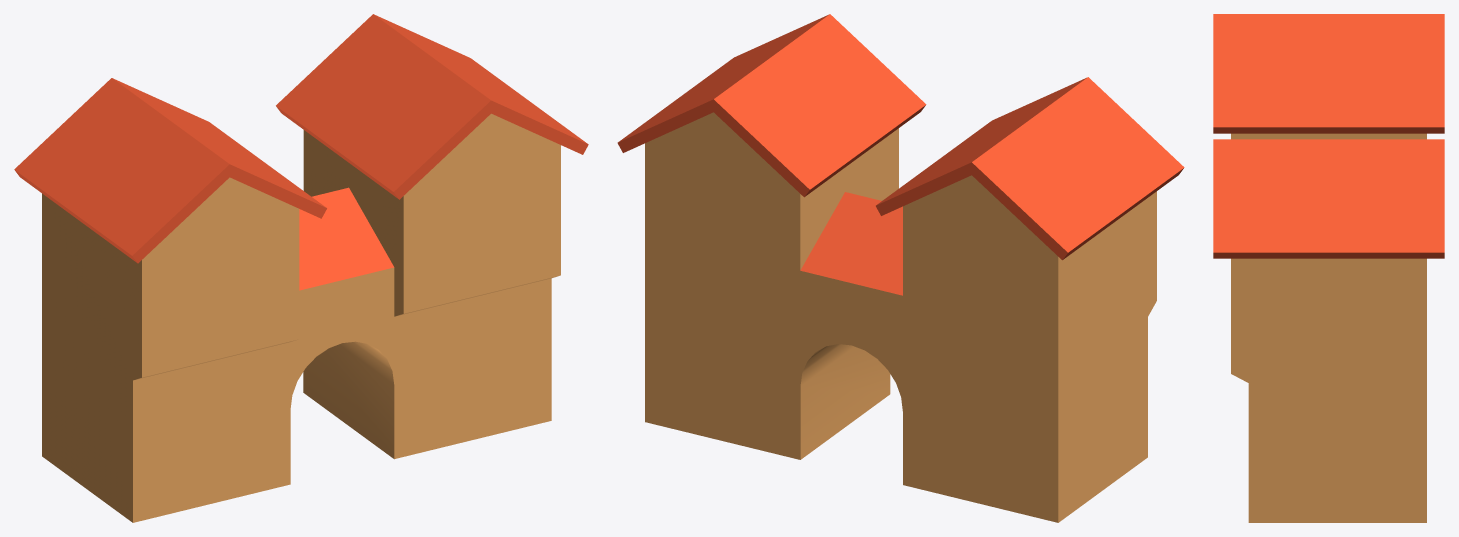
Rendered from house.fbx.
The picture shows the model from 3 angles, left to right: view 1: azimuth 30°, elevation 25°; view 2: azimuth 150°, elevation 25°; view 3: azimuth 270°, elevation 25°; orthographic projection.
Visible parts, largest first — view 1: building_castle_44; view 2: building_castle_44; view 3: building_castle_44.
Boxes of the visible parts, x1,y1,x2,y2 form: building_castle_44: [14, 14, 588, 522]; building_castle_44: [617, 14, 1184, 522]; building_castle_44: [1213, 14, 1444, 522].
Size of the model in its own units: 8.72 by 6.44 by 3.91.
